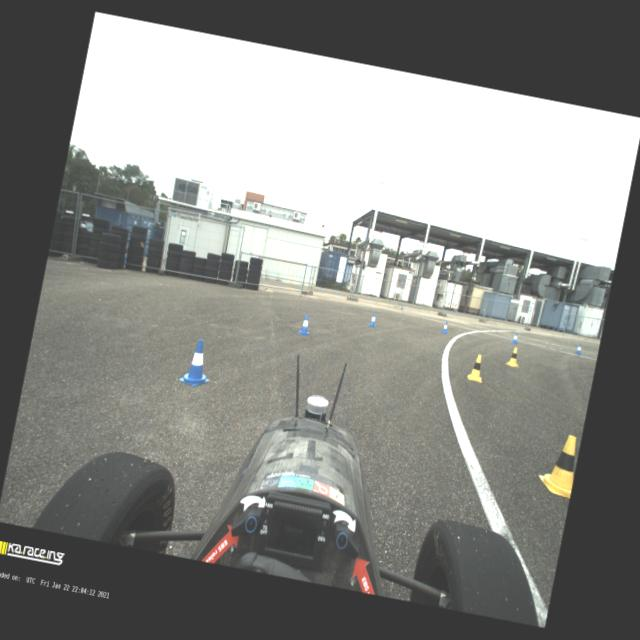blue_cone: (178, 337, 217, 389), (298, 314, 313, 336), (368, 312, 378, 328), (441, 321, 450, 334), (574, 343, 583, 355), (511, 332, 519, 344)
yellow_cone: (536, 431, 582, 498), (467, 353, 487, 382), (505, 346, 522, 368)
